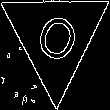O_SW: (28, 5, 83, 70)
